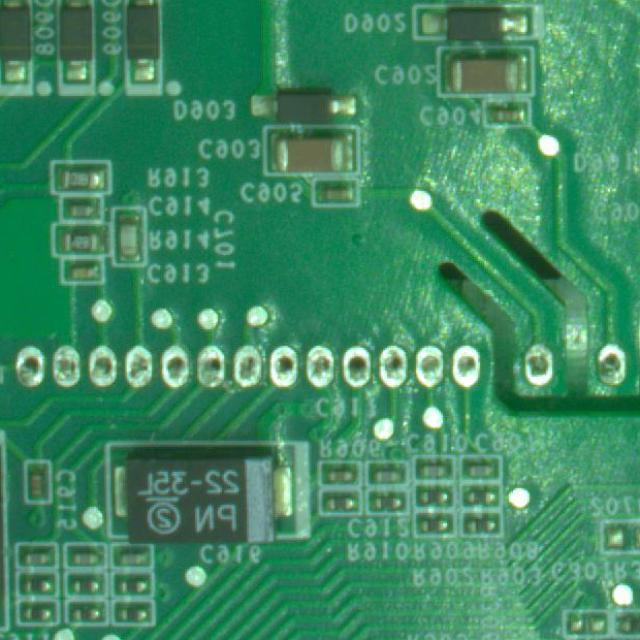Insufficient solder: (10, 340, 48, 398), (520, 336, 558, 394), (375, 338, 414, 390), (592, 338, 628, 394), (159, 332, 192, 392), (268, 336, 304, 390), (340, 336, 374, 392), (198, 325, 227, 388), (229, 336, 264, 388), (452, 338, 485, 391), (124, 332, 153, 392), (420, 328, 452, 381), (86, 344, 115, 392), (308, 334, 334, 387)
